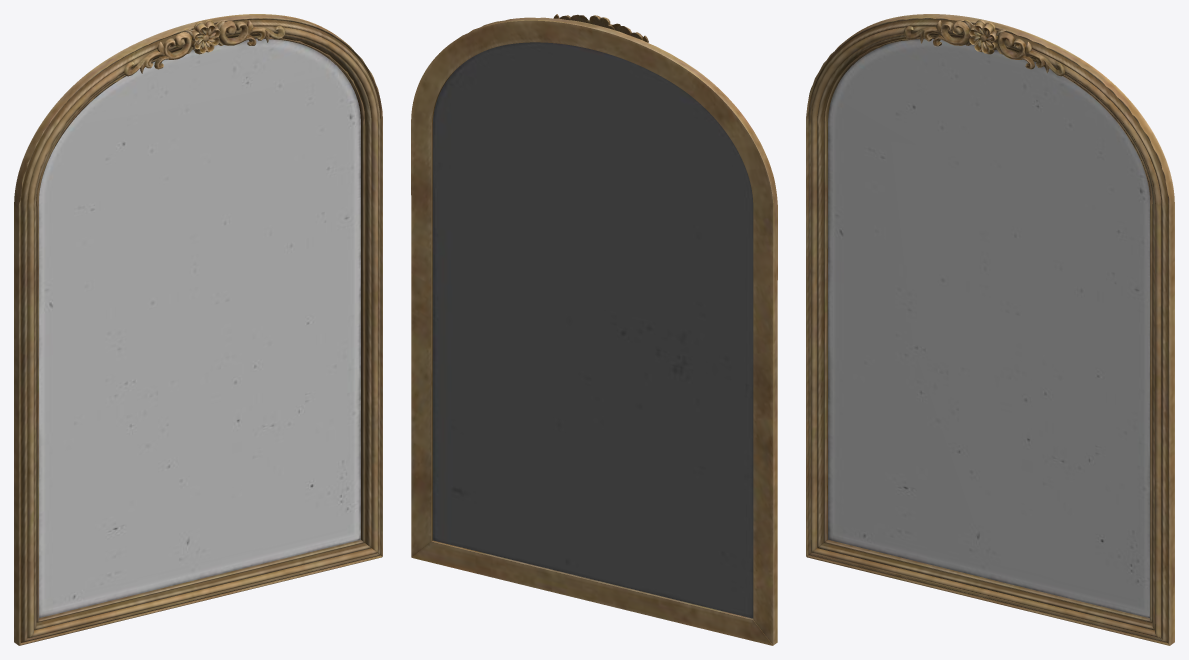
The model's file is mirror.glb.
3 views of the same model, side by side, from view 1: azimuth 30°, elevation 25°; view 2: azimuth 150°, elevation 25°; view 3: azimuth 330°, elevation 25° (orthographic).
Visible parts, largest first — view 1: mirror; view 2: mirror; view 3: mirror.
Boxes of the visible parts, <box> form: mirror: <box>14,14,382,645</box>; mirror: <box>411,14,777,645</box>; mirror: <box>806,14,1174,645</box>.
Size of the model in its own units: 0.4865 by 0.7442 by 0.0263.
Materials: 1 (1 with a texture image).
